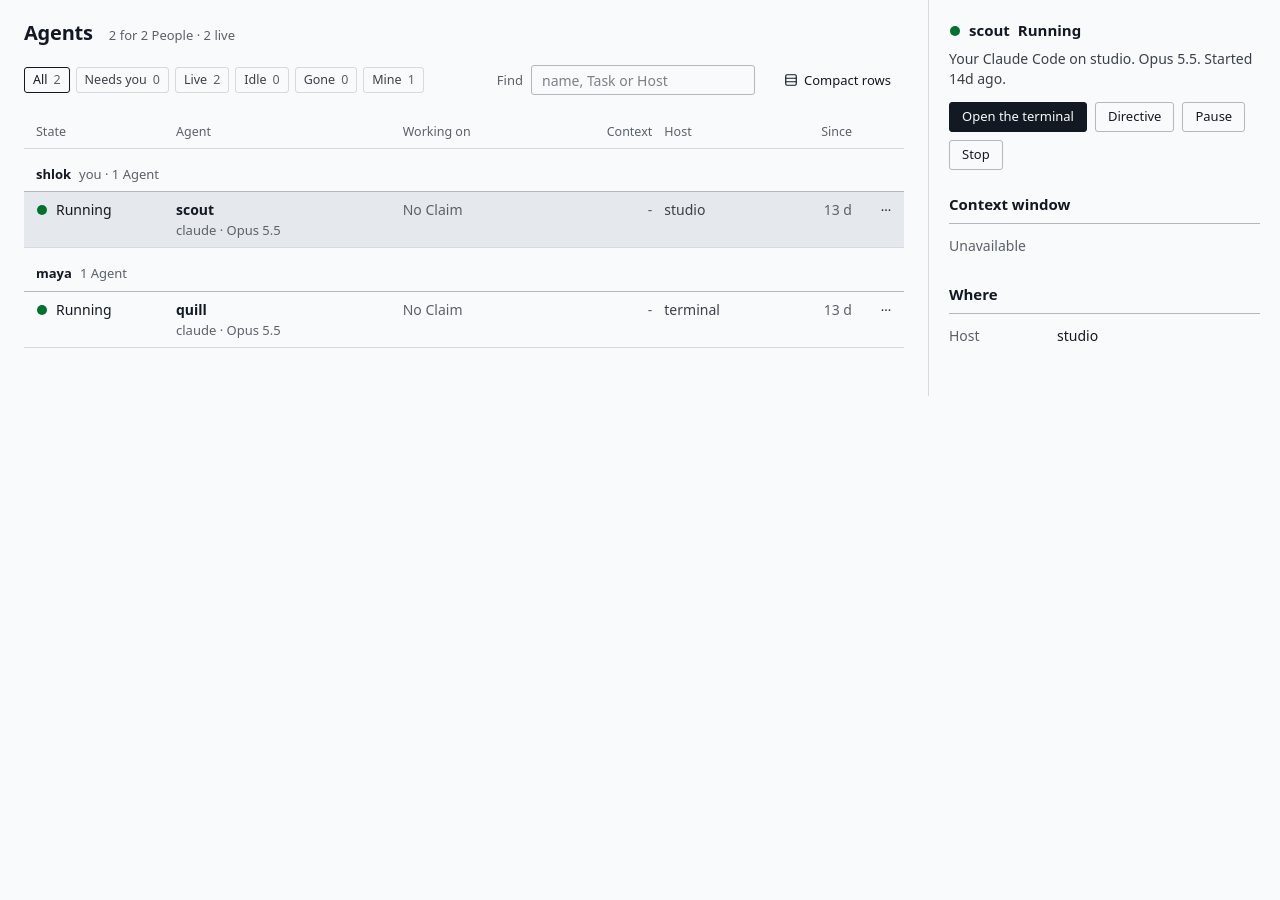
the row menu › gives focus back to the menu's button when the rename dialog is shut with Escape
Press the mouse on the button named "Actions for quill" at x=886, y=310, box [872, 296, 900, 324]
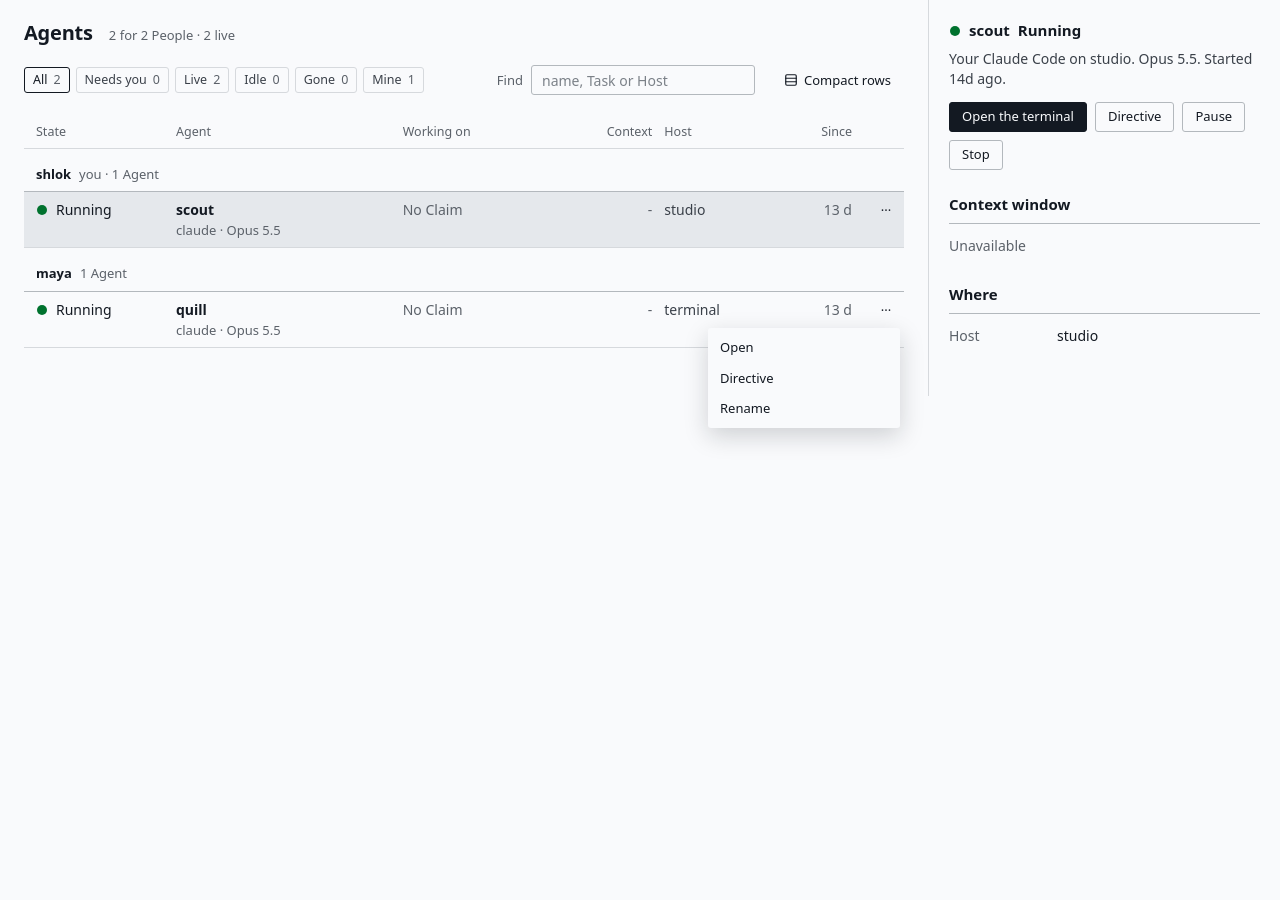
Click the menu item "Rename". click: x=745, y=408
box: [720, 399, 770, 417]
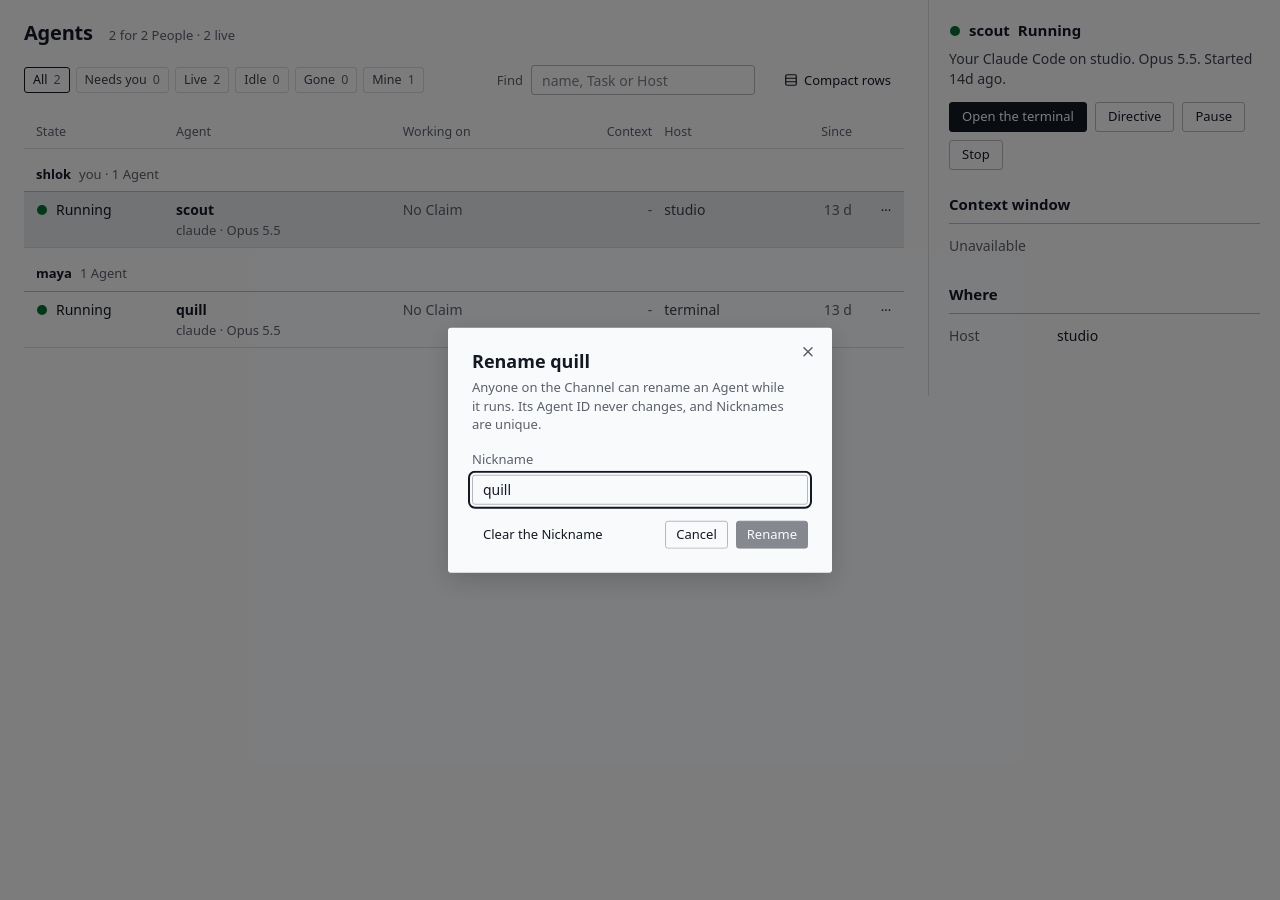
Press Escape in the field labelled "Nickname", box [472, 474, 808, 504]
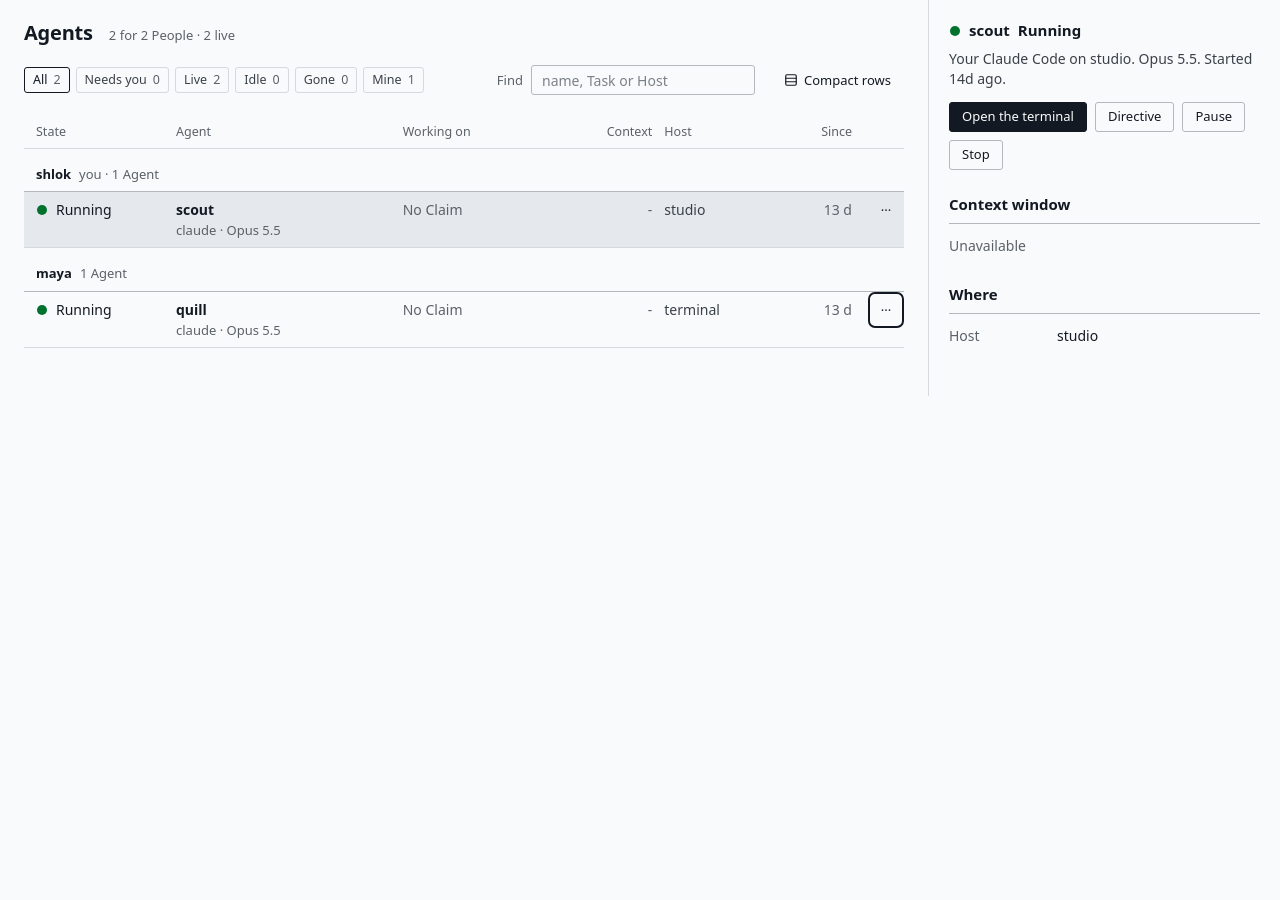
Check: the dialog is gone
